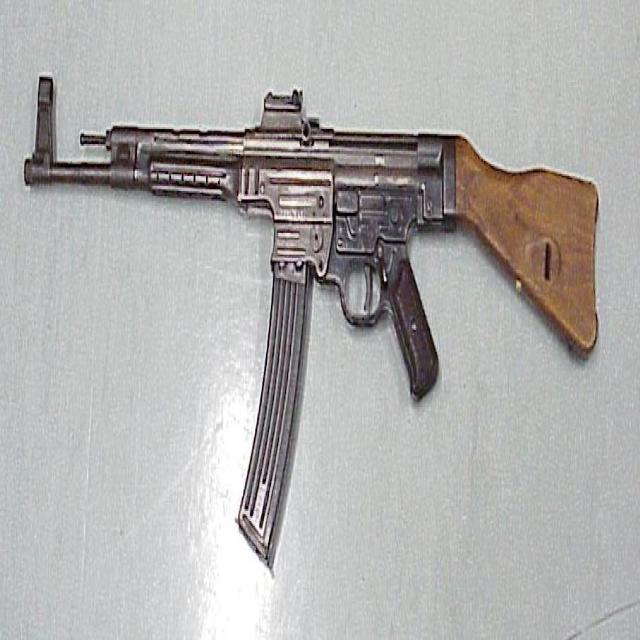weapon: (16, 64, 611, 561)
